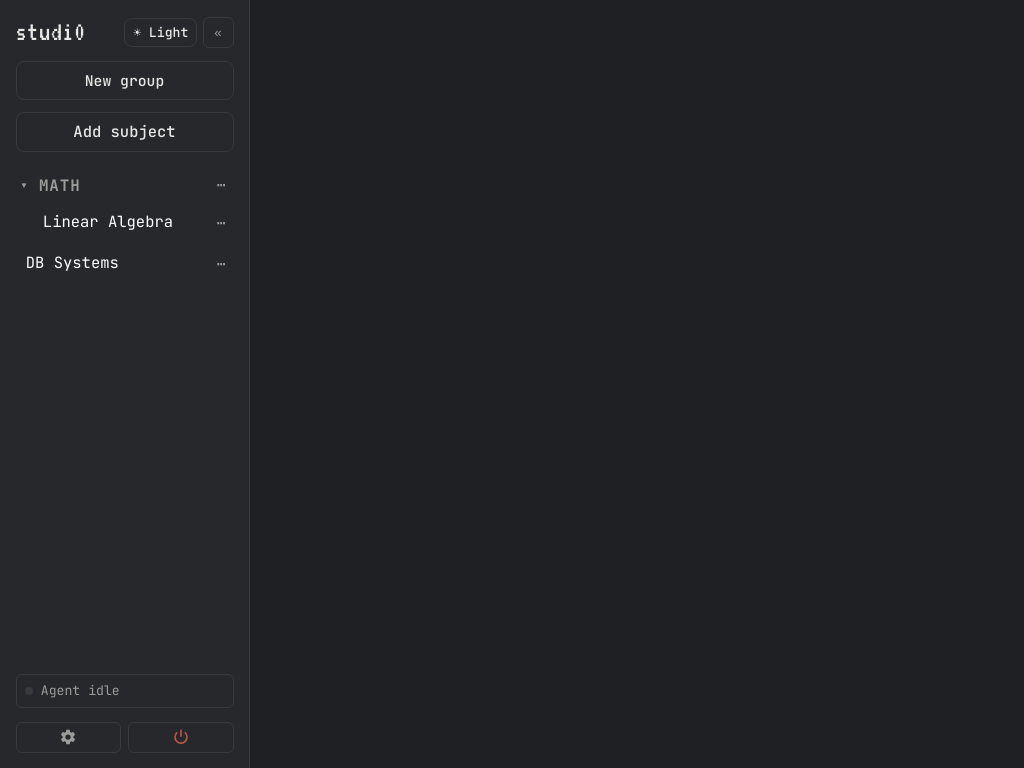
Sidebar groups and menus › requires typing the subject name exactly to delete its files from disk
Later steps or results of the test are not shown.
Click the button named "Linear Algebra options".
click(221, 223)  # box [209,202,234,243]
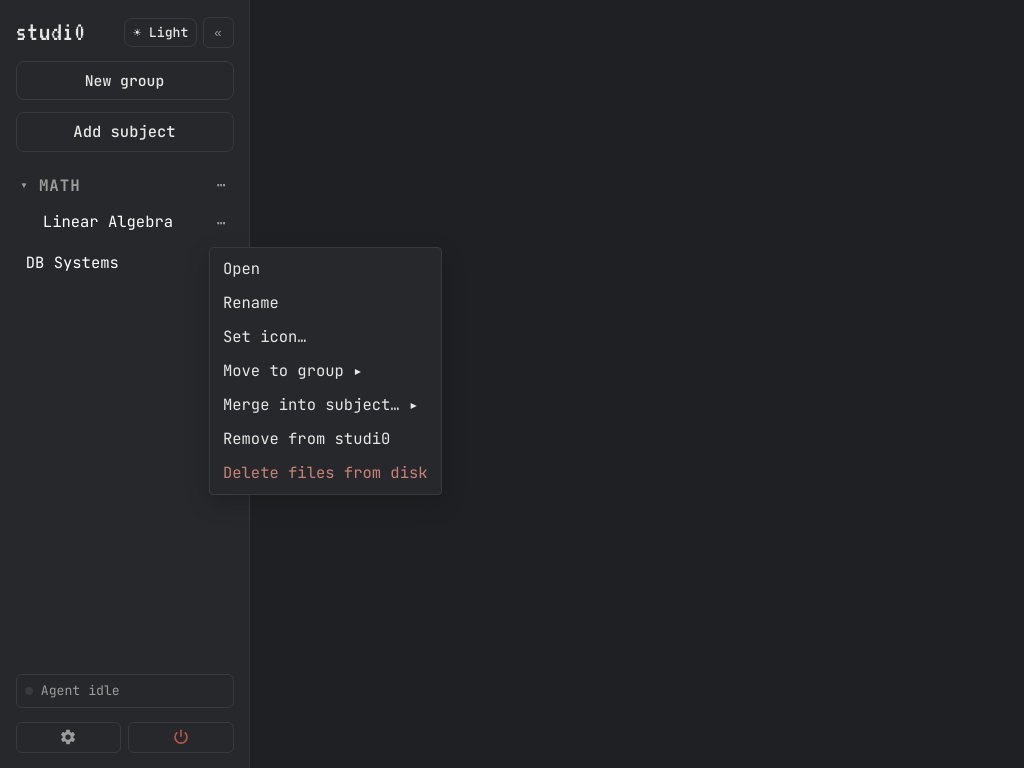
Click the menu item "Delete files from disk".
click(325, 473)  # box [214,456,437,490]
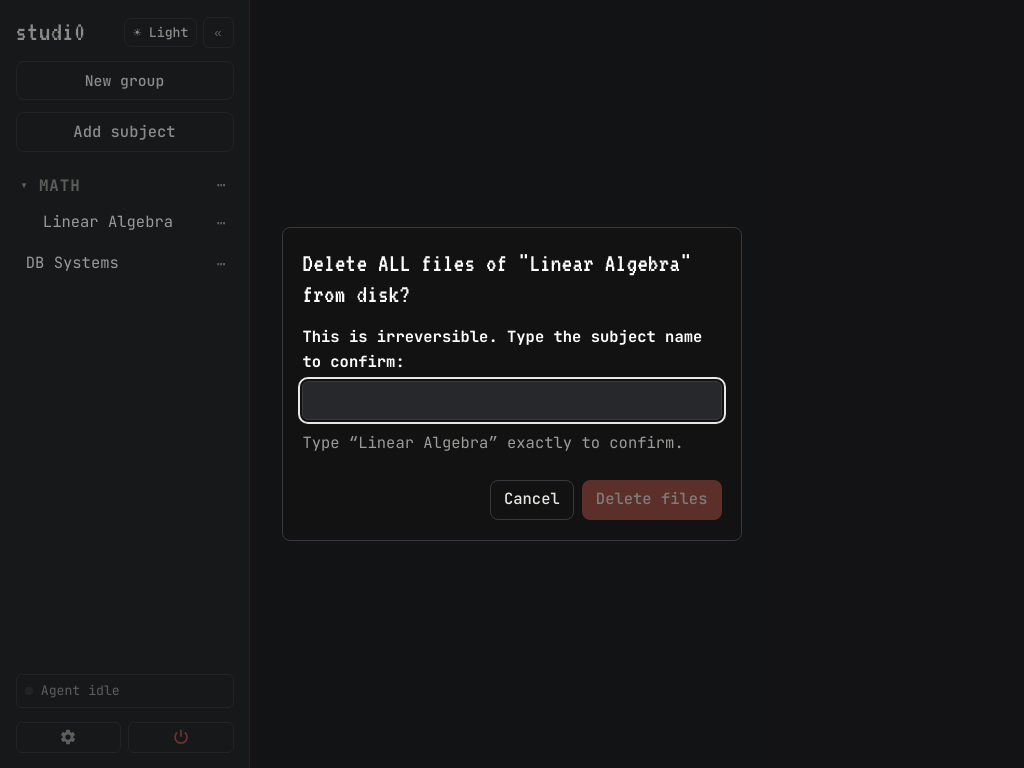
Check: the button "Delete files" is disabled, box [582,480,722,520]
Type "linear algebra" into the field labelled "This is irreversible. Type the subject name to confirm:".
click(512, 400); type("linear algebra")  # box [302,381,722,420]
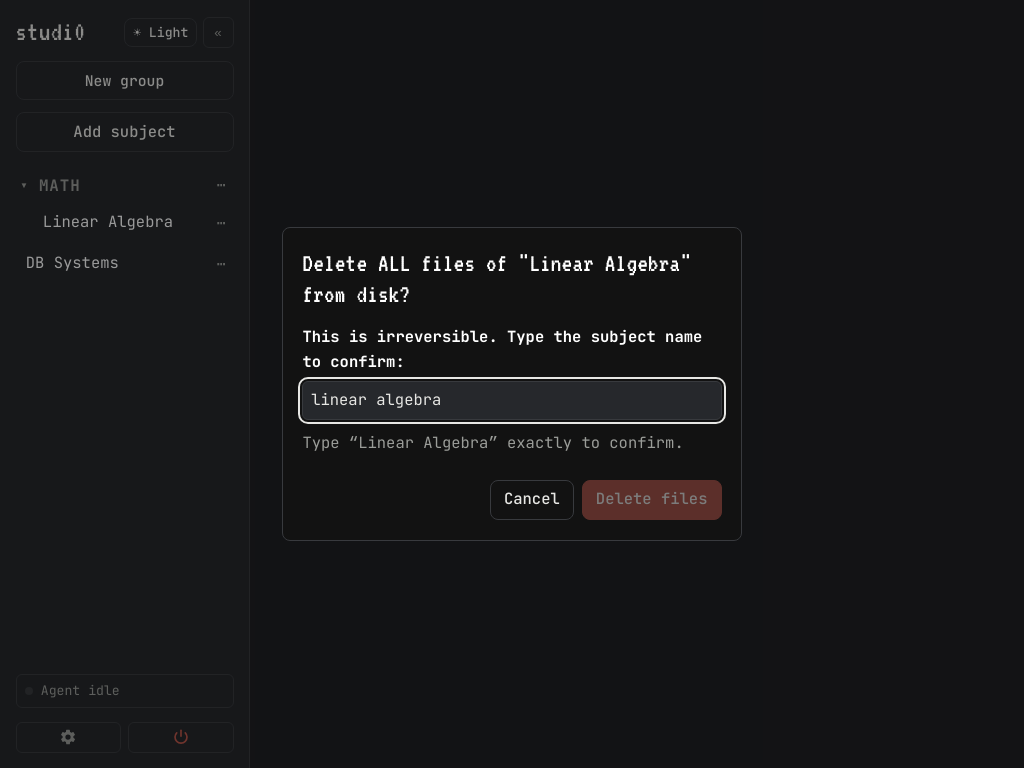
Check: the button "Delete files" is disabled, box [582,480,722,520]
